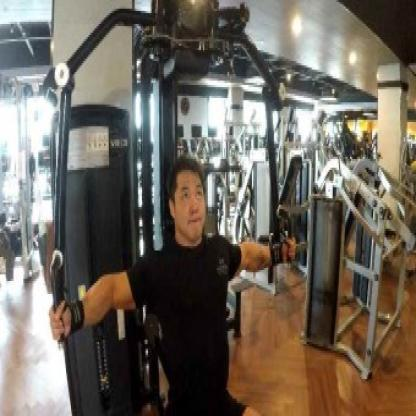chest fly machine: (23, 0, 316, 416)
